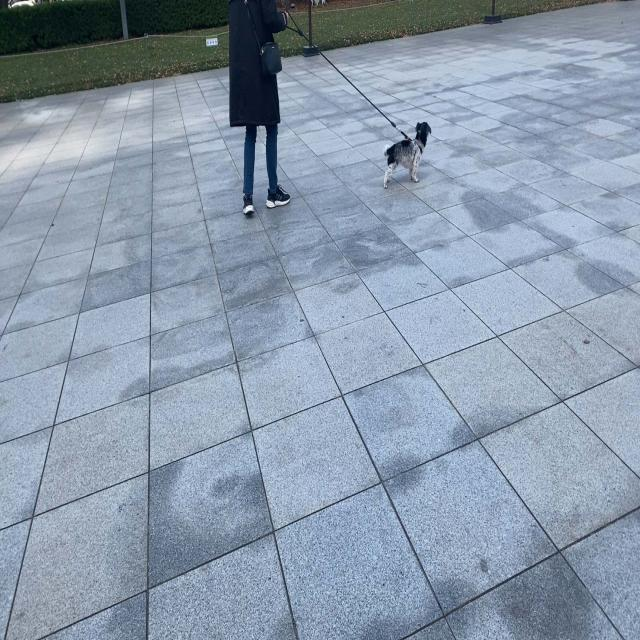Leashed_Dog: (254, 4, 432, 192)
